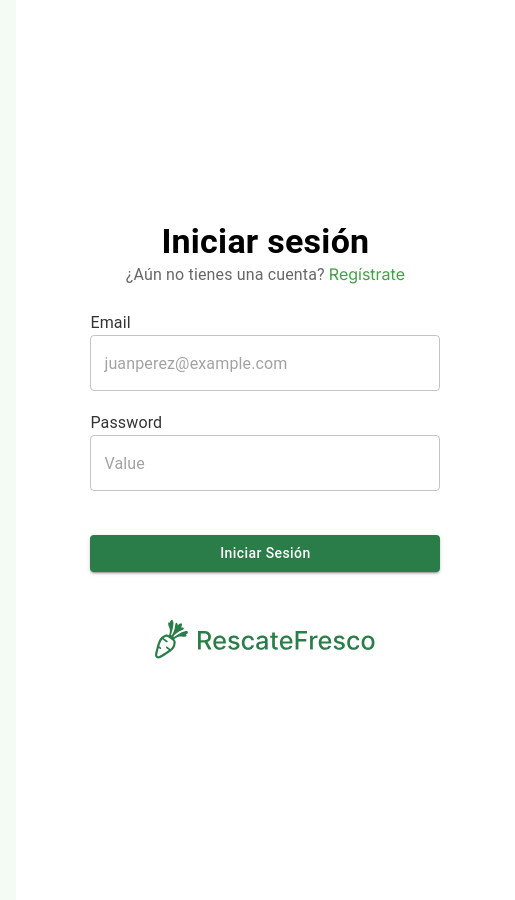
Test: RF-02: Autenticación y Flujo de Login › TEST-T1-02: Muestra error con credenciales inválidas
In the field labelled "Email": (265, 364) [90, 336, 440, 392], type "test@test.com"
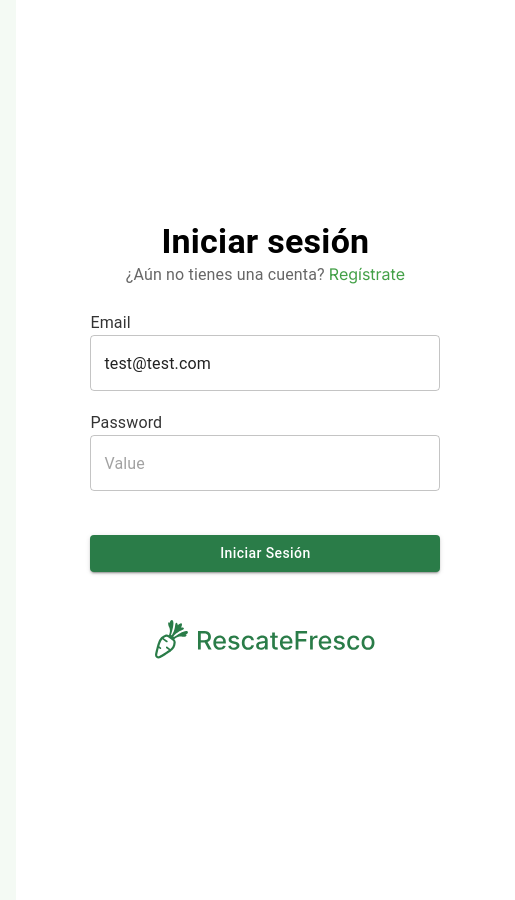
In the password field labelled "Password": (265, 464) [90, 436, 440, 492], type "mala"
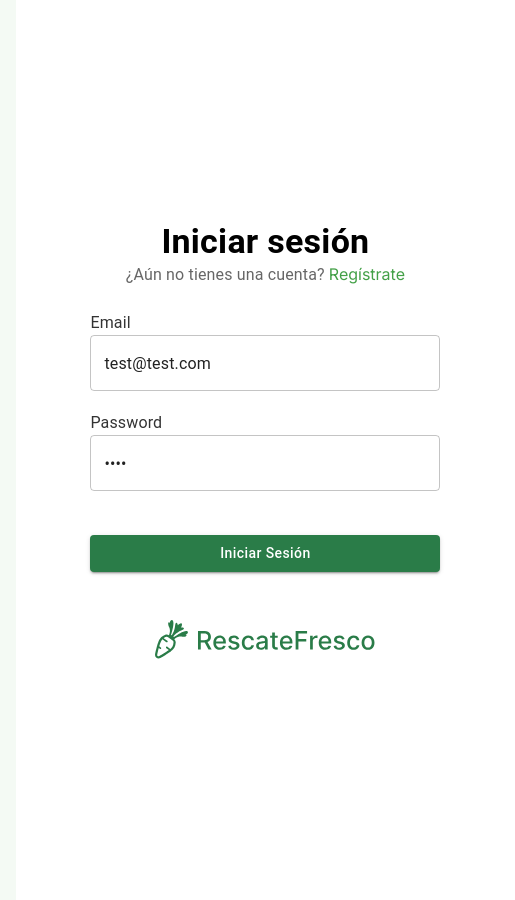
Click the button "Iniciar Sesión": (265, 554) [90, 536, 440, 572]
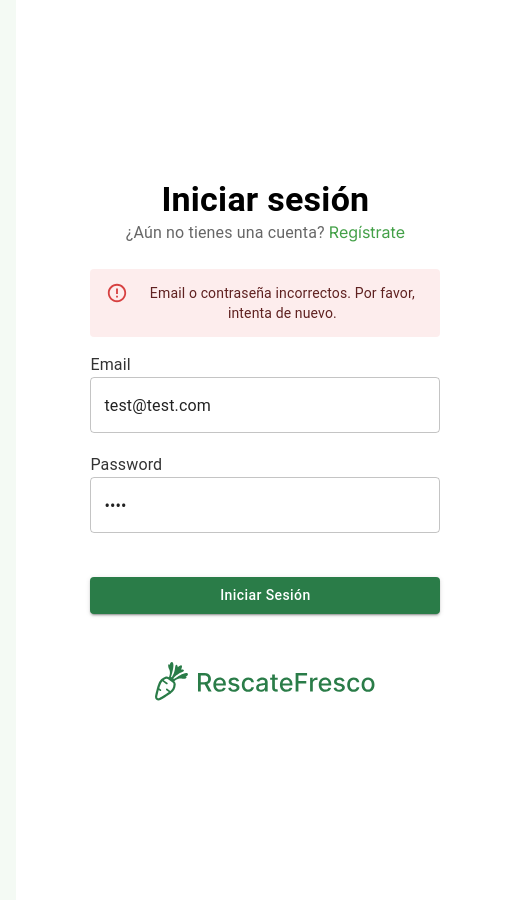
Expected: the text "Email o contraseña incorrectos. Por favor, intenta de nuevo." is shown, [140, 276, 424, 332]
